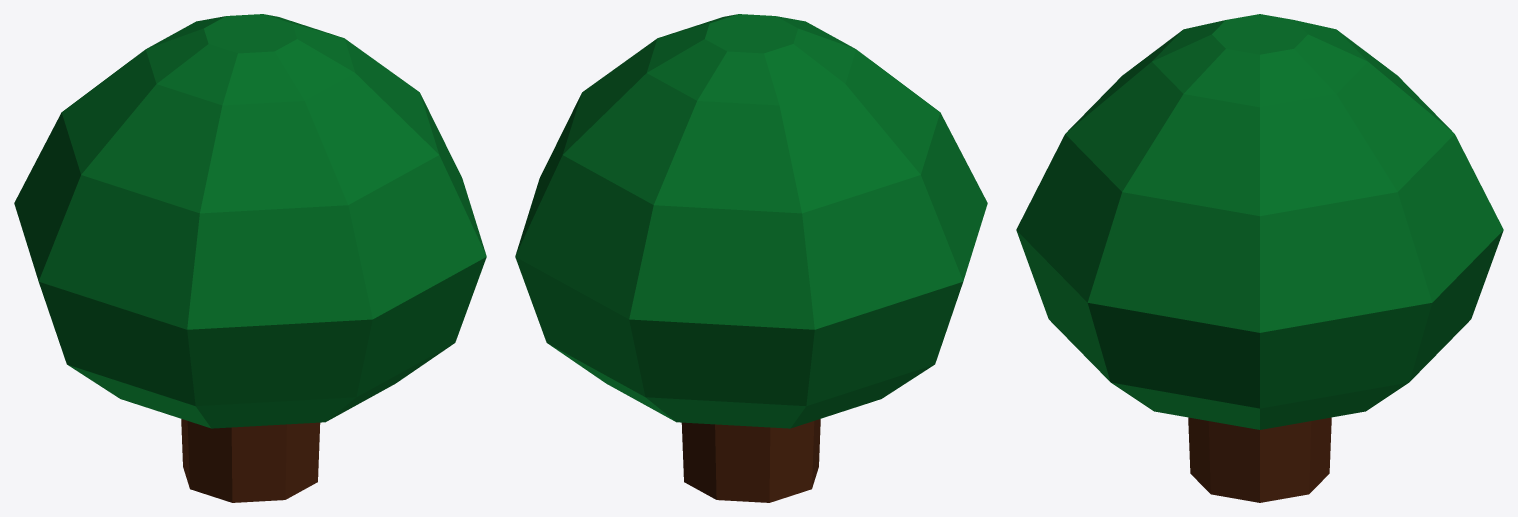
Rendered from Tree_01.fbx.
The picture shows the model from 3 angles, left to right: view 1: azimuth 30°, elevation 25°; view 2: azimuth 150°, elevation 25°; view 3: azimuth 270°, elevation 25°; orthographic projection.
Parts seen in each view (by area): view 1: Cylinder; view 2: Cylinder; view 3: Cylinder.
Part boxes in pixels (x1,y1,x2,y2): Cylinder: (14,14,486,502); Cylinder: (515,14,987,502); Cylinder: (1016,14,1503,502).
Bounding box in the file's own units: 481 × 478 × 481.
